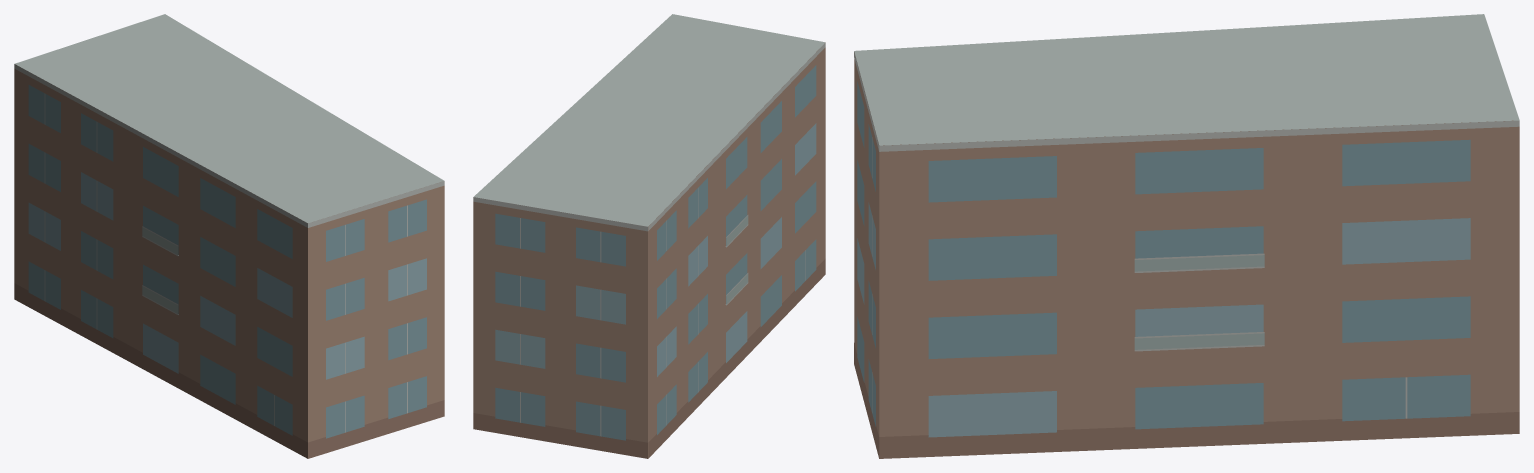
File: survey-upis-32578817.glb
3 views of the same model, side by side, from view 1: azimuth 30°, elevation 25°; view 2: azimuth 150°, elevation 25°; view 3: azimuth 270°, elevation 25° (orthographic). The views are drawn at different scales.
Parts seen in each view (by area): view 1: survey-upis-32578817.tmp; view 2: survey-upis-32578817.tmp; view 3: survey-upis-32578817.tmp.
Part boxes in pixels (x1,y1,x2,y2): survey-upis-32578817.tmp: (14,14,444,458); survey-upis-32578817.tmp: (473,14,825,458); survey-upis-32578817.tmp: (854,14,1519,458).
Size of the model in its own units: 11 by 12.2 by 23.5.
